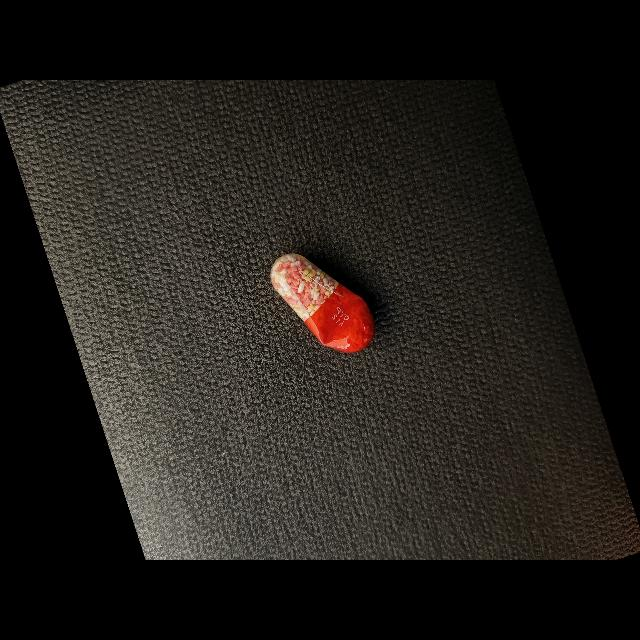Defective Capsule: (270, 253, 375, 353)
